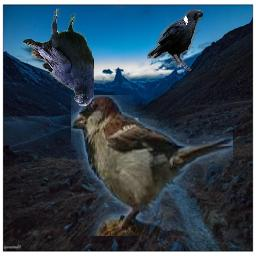Crow: (22, 8, 94, 106), (147, 9, 203, 71)
Sparrow: (71, 96, 233, 237)
